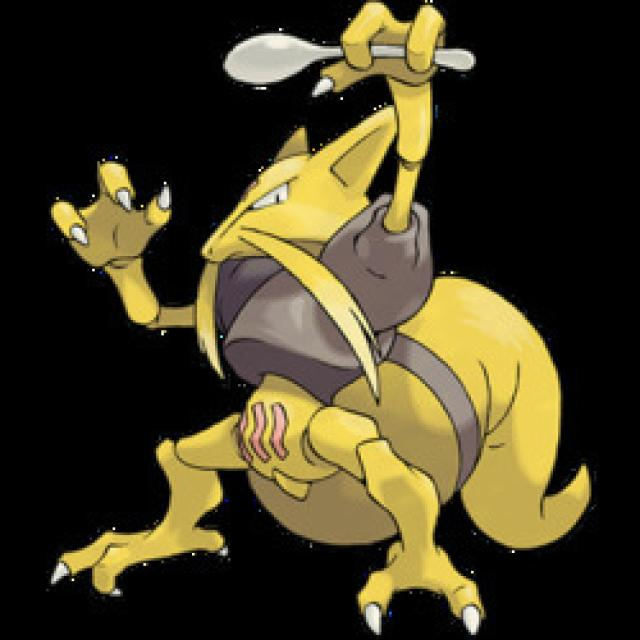Kadabra: (82, 100, 497, 611)
